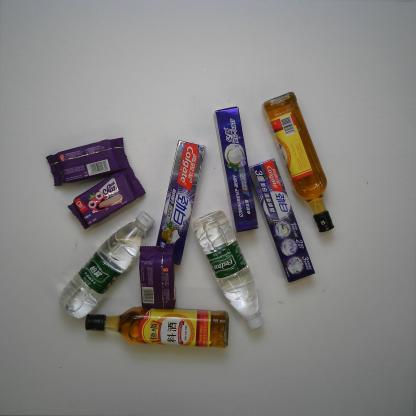Dessert: (44, 133, 132, 194), (66, 166, 146, 232), (138, 242, 176, 315)
Drink: (60, 209, 156, 318), (191, 208, 266, 332)
Personal Hygiene: (248, 157, 317, 284), (152, 139, 207, 269), (212, 104, 262, 234)
Seasoner: (259, 89, 336, 233), (83, 305, 232, 349)
